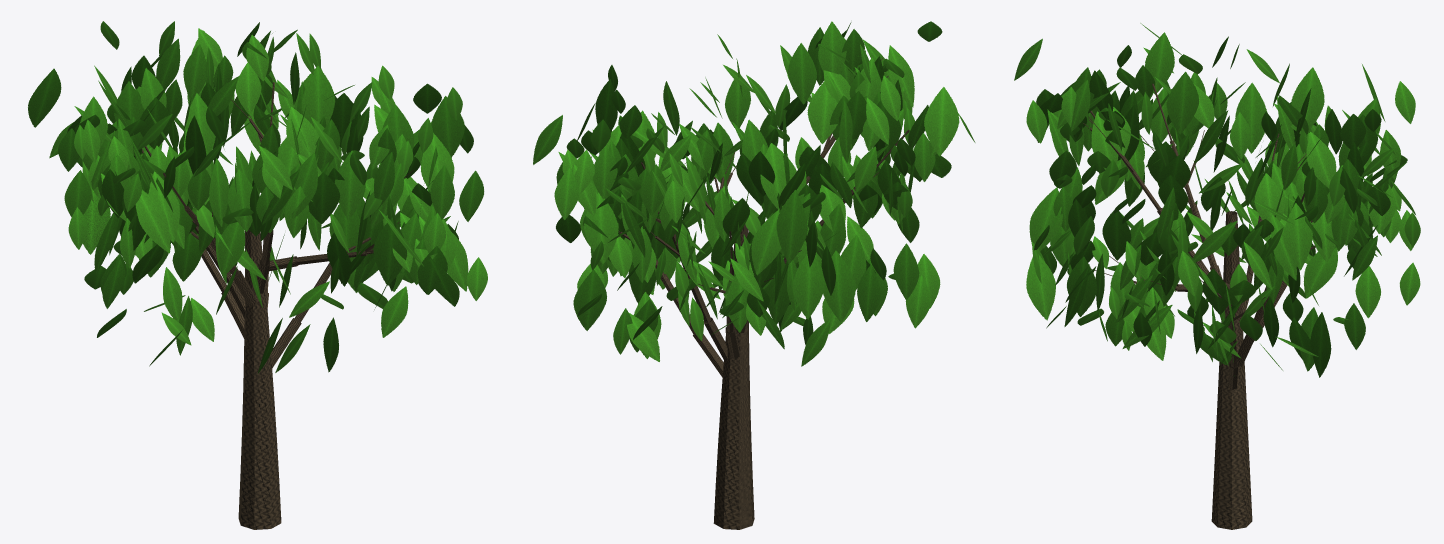
Rendered from monzon-tree-v1.glb.
3 renders of one model, left to right at view 1: azimuth 30°, elevation 25°; view 2: azimuth 150°, elevation 25°; view 3: azimuth 270°, elevation 25°, orthographic. The views are drawn at different scales.
Parts seen in each view (by area): view 1: leaves, bark; view 2: leaves, bark; view 3: leaves, bark.
Boxes of the visible parts, x1,y1,x2,y2 form: leaves: (28, 21, 487, 373); bark: (142, 82, 413, 529); leaves: (533, 21, 975, 366); bark: (618, 57, 909, 529); leaves: (1014, 23, 1420, 377); bark: (1083, 83, 1315, 529).
Size of the model in its own units: 11.09 by 12.12 by 10.63.
2 materials, 2 textured.
